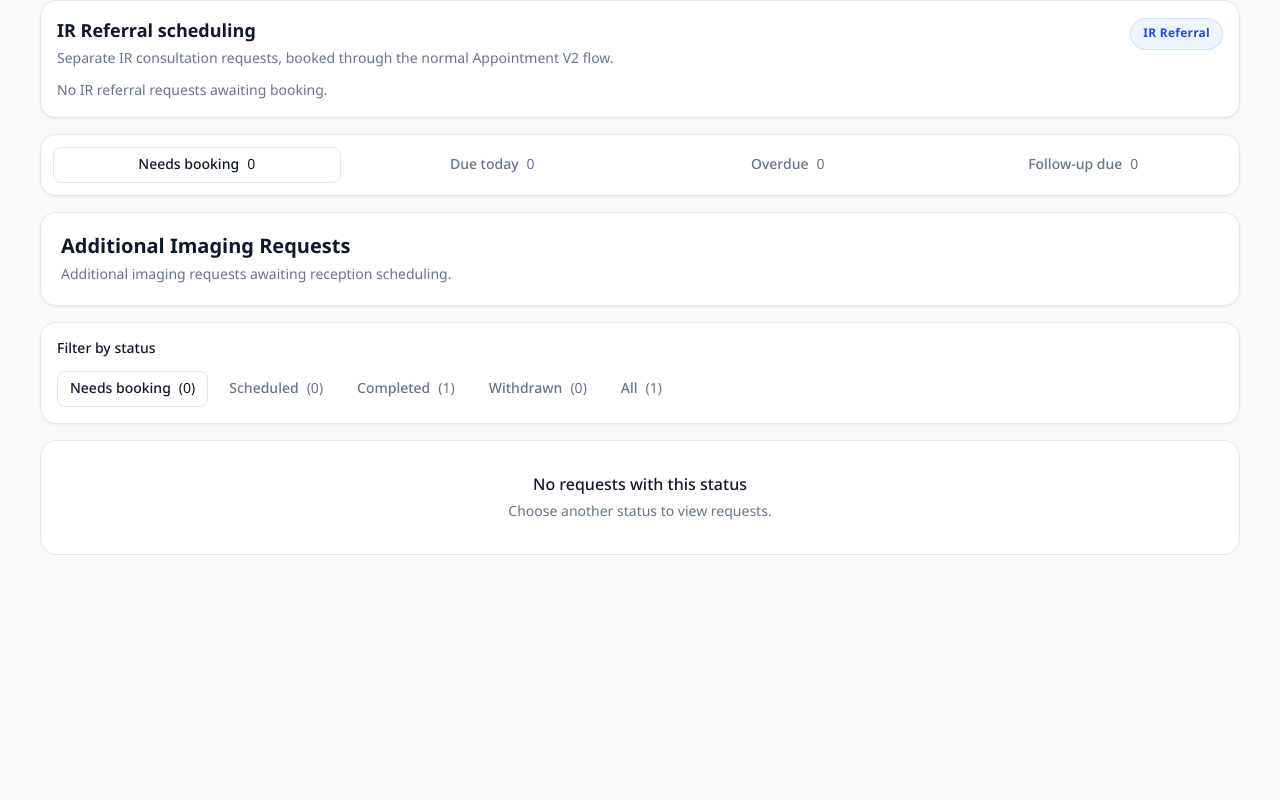
it: Recall Requests metadata › disables duplicate sends while the current job is pending
Click the button "Completed (1)".
click(406, 390)  # box 344,372 -> 468,408
(page scrolled)
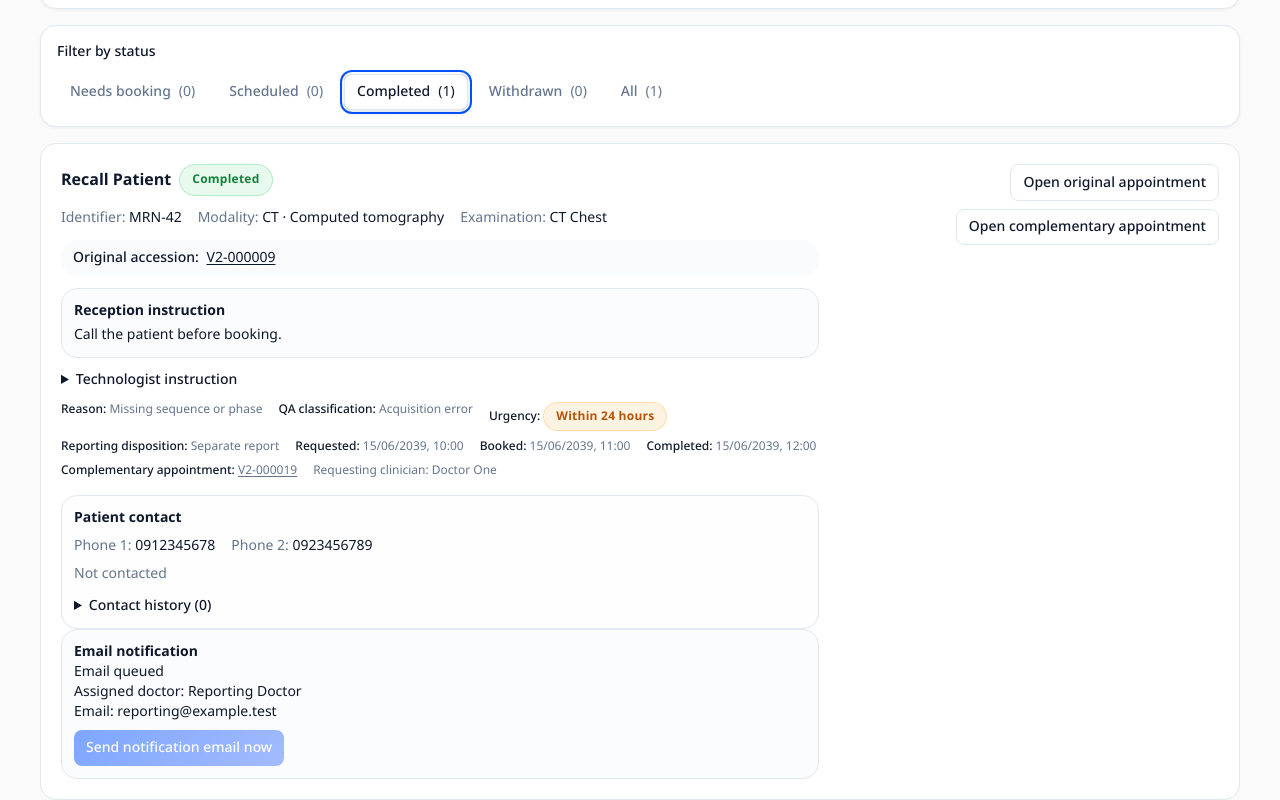
Now the text "Email queued" is shown, box 74,657 -> 164,686
Now the button "Send notification email now" is disabled, box 74,730 -> 284,766
